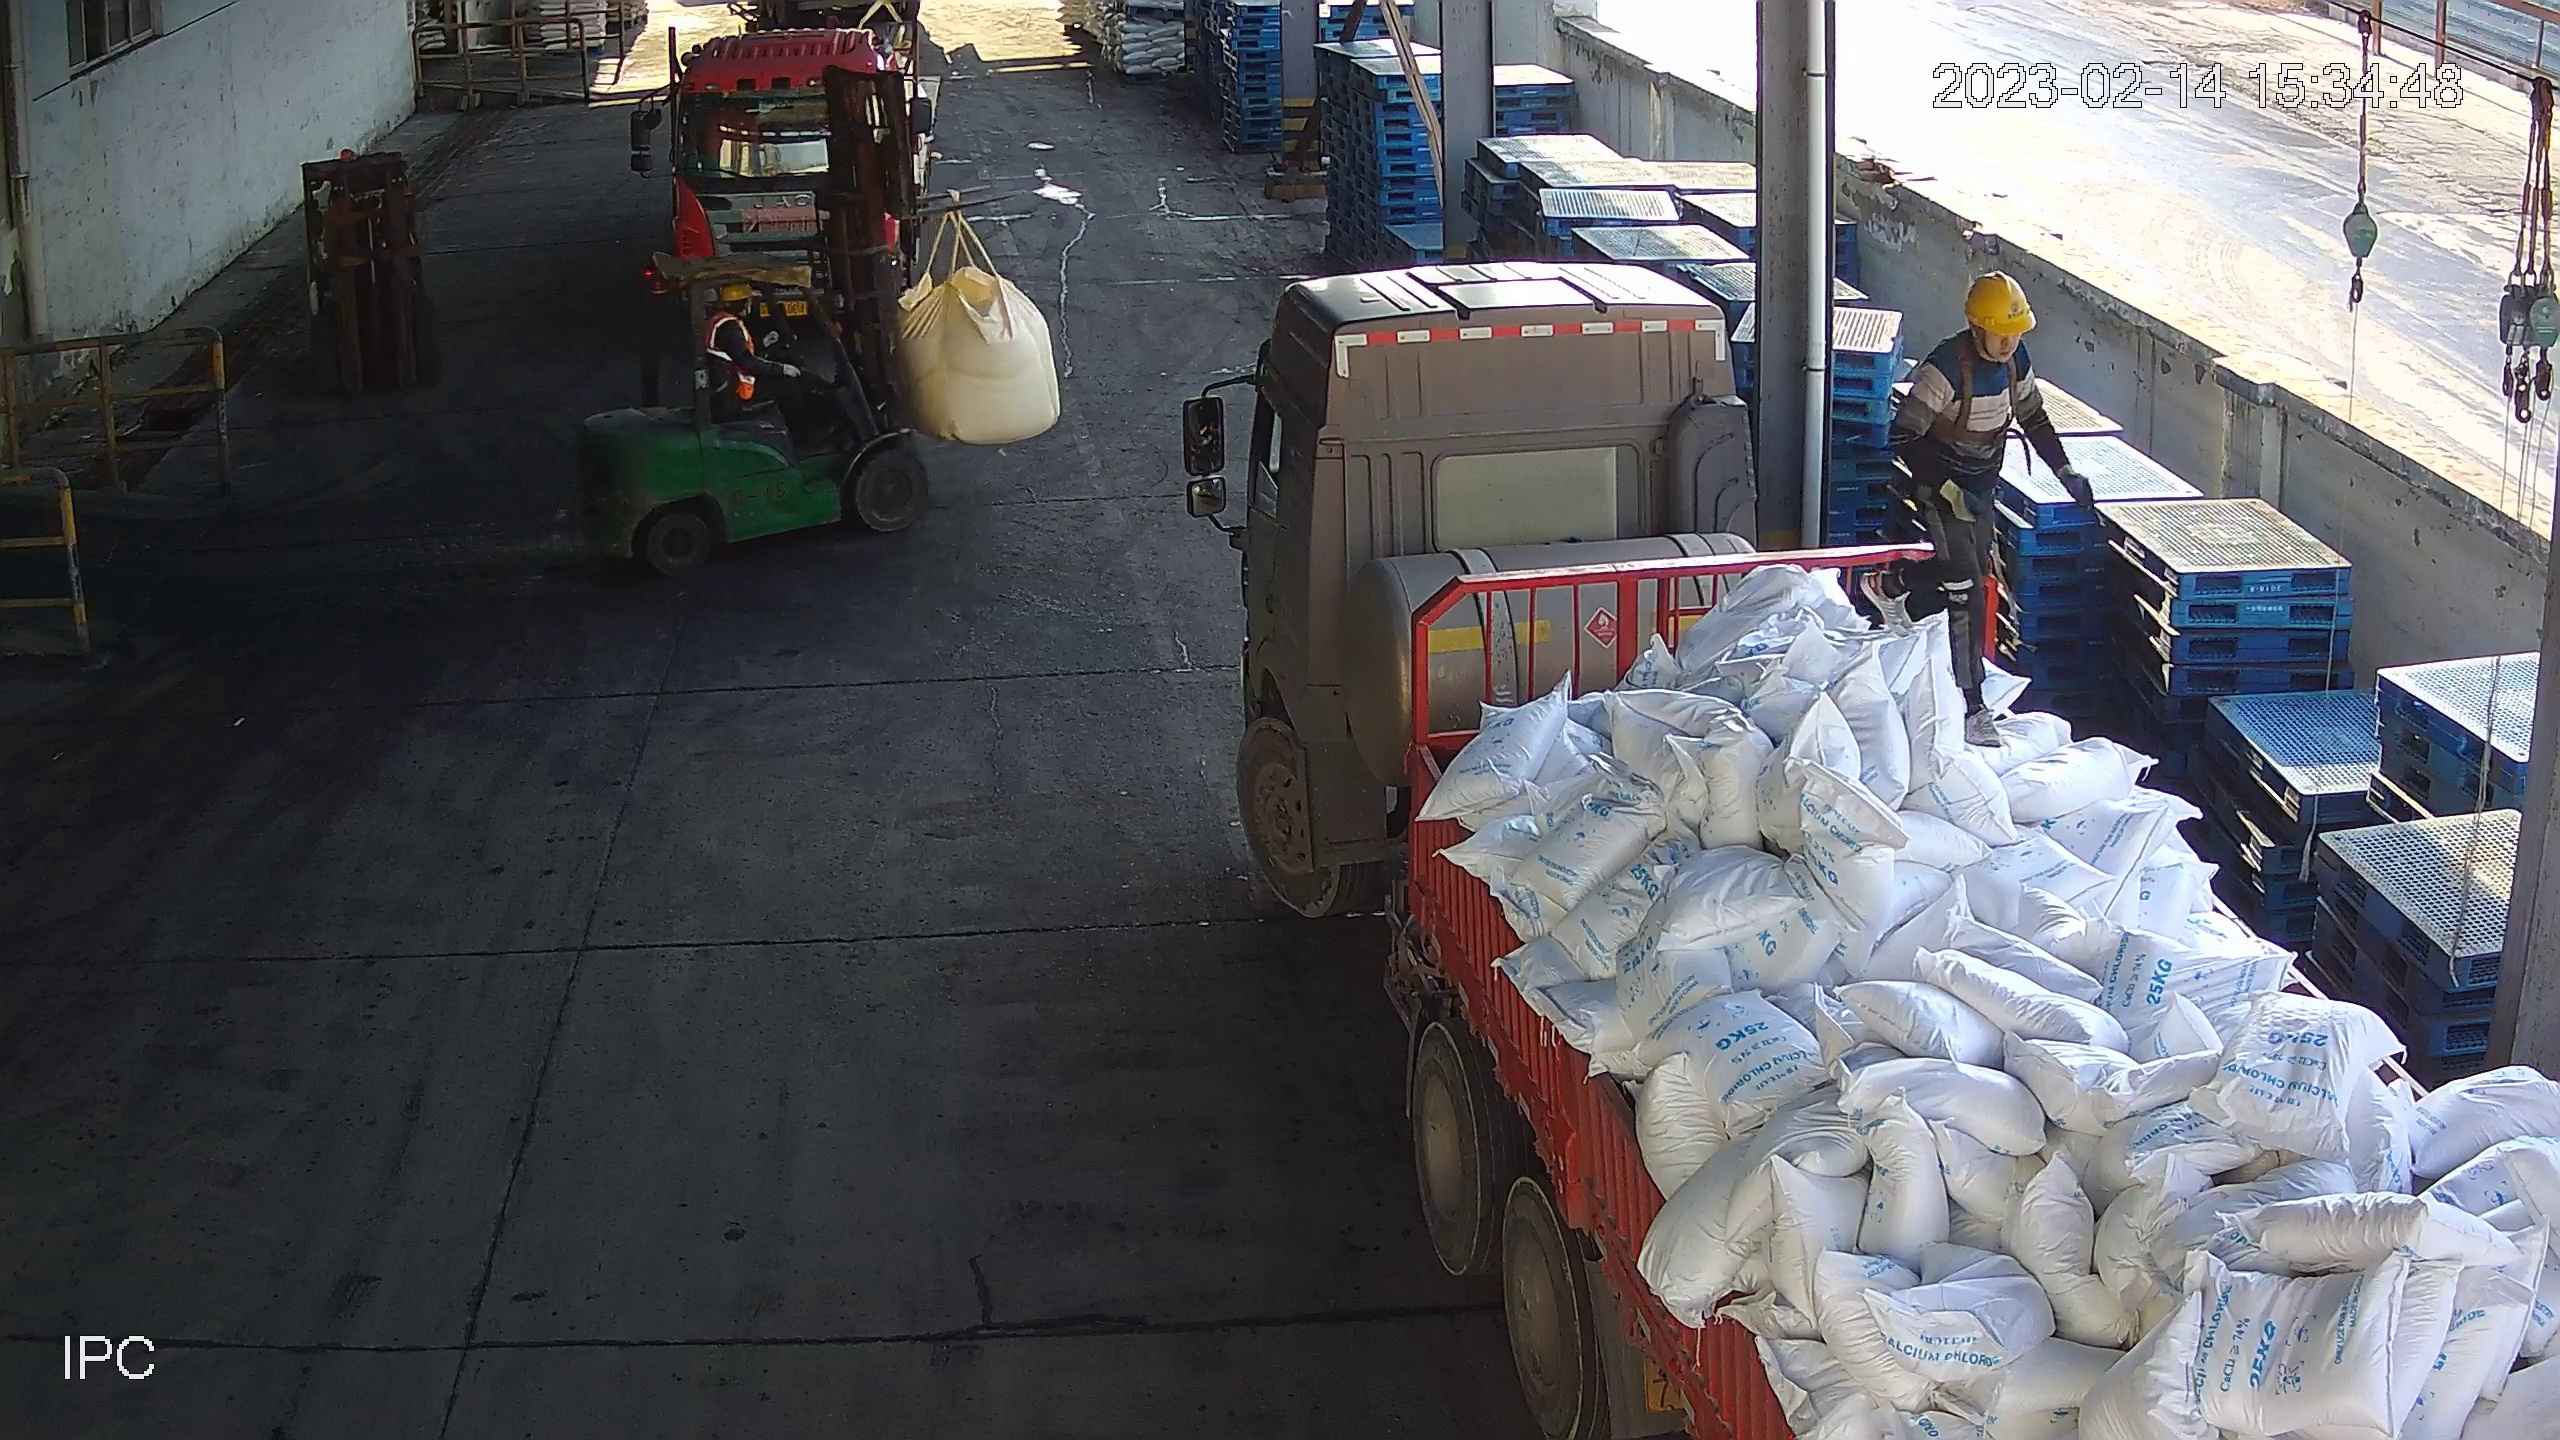belt: (1942, 362, 2021, 457)
head: (1927, 272, 2051, 402), (706, 283, 767, 341)
helmet: (1969, 271, 2032, 336), (725, 281, 765, 311)
people: (1890, 265, 2088, 750), (692, 288, 835, 432)
truck: (1179, 253, 2560, 1440)
